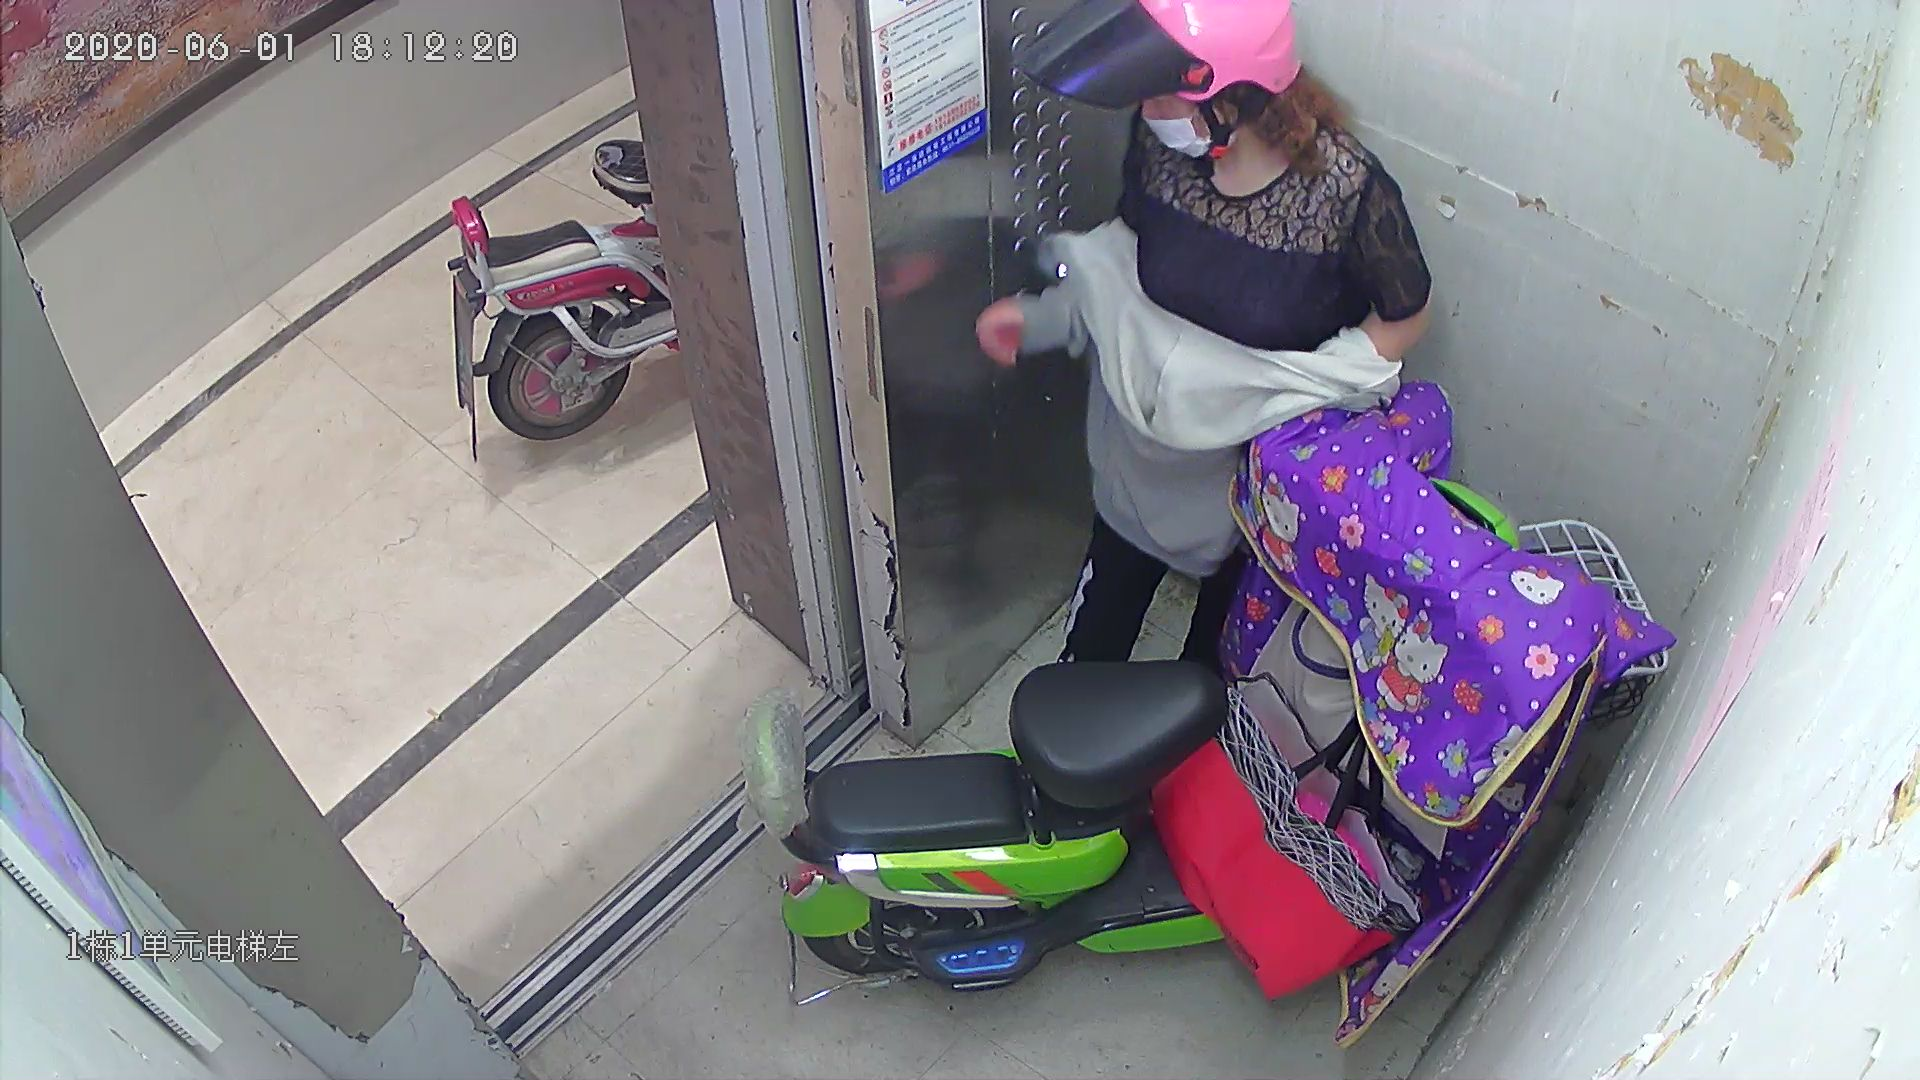Electric-bicycle: (744, 385, 1673, 1044), (448, 129, 674, 465)
